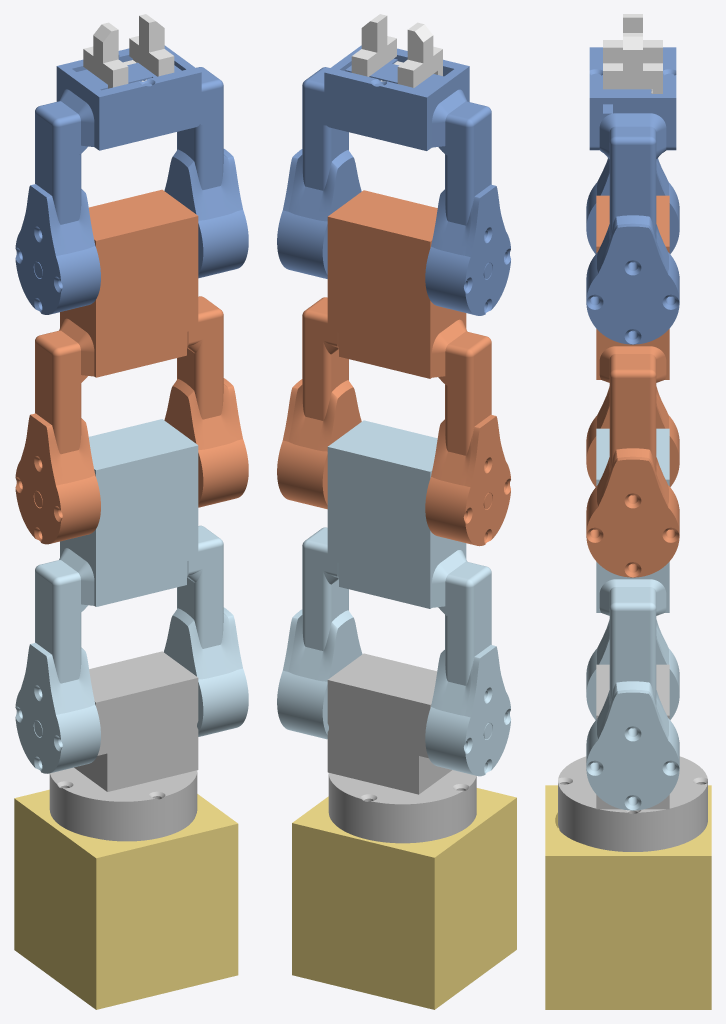
The model's file is arm_robotics.glb.
3 views of the same model, side by side, from view 1: azimuth 30°, elevation 25°; view 2: azimuth 150°, elevation 25°; view 3: azimuth 270°, elevation 25° (orthographic).
Parts seen in each view (by area): view 1: ArmJ2, ArmJ3, Base, ArmGriper, Gear for Base, FingerBase, Left_Fringer, Right_Finger; view 2: ArmJ2, ArmJ3, Base, ArmGriper, Gear for Base, FingerBase, Left_Fringer, Right_Finger; view 3: Base, ArmJ2, ArmJ3, ArmGriper, Gear for Base, FingerBase, Right_Finger, Left_Fringer.
Part boxes in pixels (x1=…): ArmJ2: x1=15, y1=419, x2=248, y2=773; ArmJ3: x1=15, y1=189, x2=248, y2=544; Base: x1=14, y1=789, x2=238, y2=1009; ArmGriper: x1=15, y1=58, x2=248, y2=314; Gear for Base: x1=49, y1=651, x2=198, y2=841; FingerBase: x1=56, y1=45, x2=201, y2=102; Left_Fringer: x1=83, y1=22, x2=146, y2=88; Right_Finger: x1=123, y1=14, x2=174, y2=76; ArmJ2: x1=277, y1=420, x2=510, y2=776; ArmJ3: x1=277, y1=190, x2=510, y2=546; Base: x1=292, y1=788, x2=516, y2=1009; ArmGriper: x1=277, y1=59, x2=510, y2=315; Gear for Base: x1=327, y1=653, x2=476, y2=843; FingerBase: x1=324, y1=45, x2=469, y2=103; Left_Fringer: x1=394, y1=22, x2=442, y2=87; Right_Finger: x1=351, y1=14, x2=396, y2=81; Base: x1=545, y1=785, x2=711, y2=1009; ArmJ2: x1=586, y1=428, x2=679, y2=810; ArmJ3: x1=586, y1=195, x2=679, y2=577; ArmGriper: x1=586, y1=73, x2=679, y2=344; Gear for Base: x1=558, y1=664, x2=707, y2=851; FingerBase: x1=589, y1=47, x2=676, y2=104; Right_Finger: x1=603, y1=33, x2=662, y2=93; Left_Fringer: x1=603, y1=14, x2=662, y2=63.
Bounding box in the file's own units: 0.066 × 0.3152 × 0.05.
